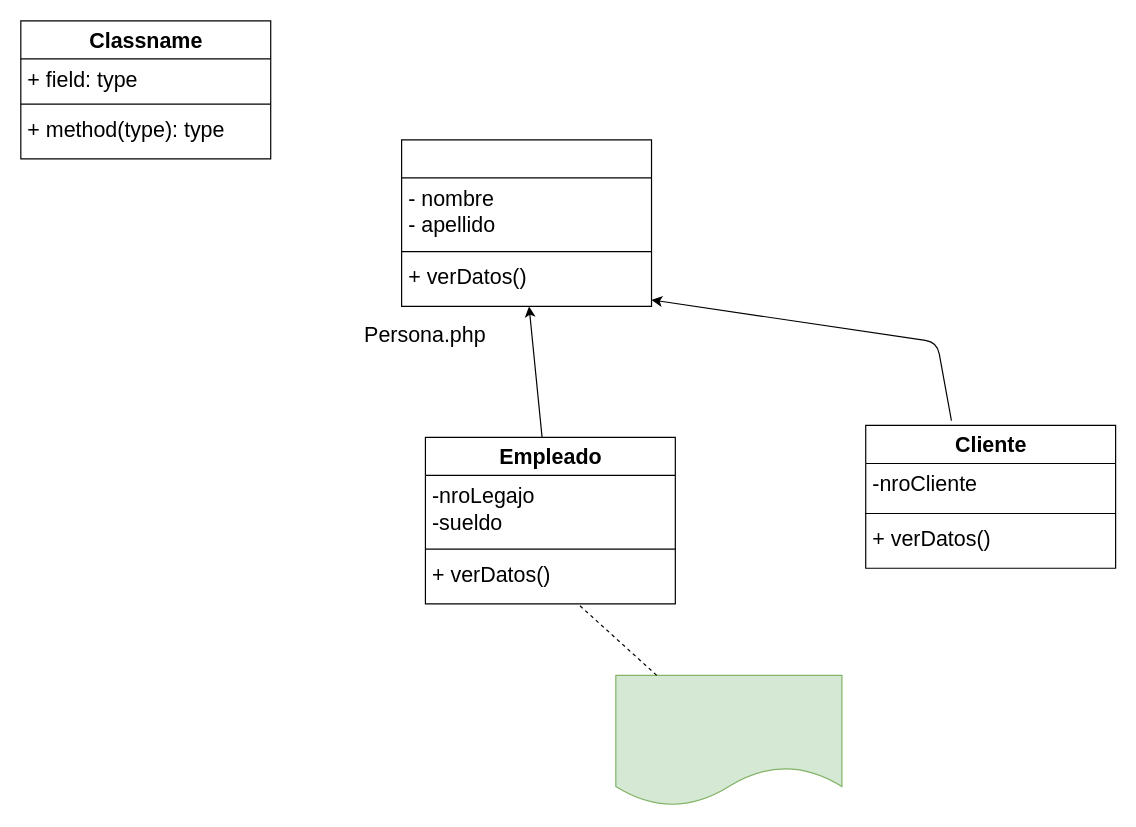
Some shapes in this 1136 by 827 pixel diagram are drawn without their labels. Here are the shapes that lost their labels. From the top down, the box of each, then its label:
(400, 139, 652, 306): Persona
(615, 674, 842, 806): vistaEmpleado
